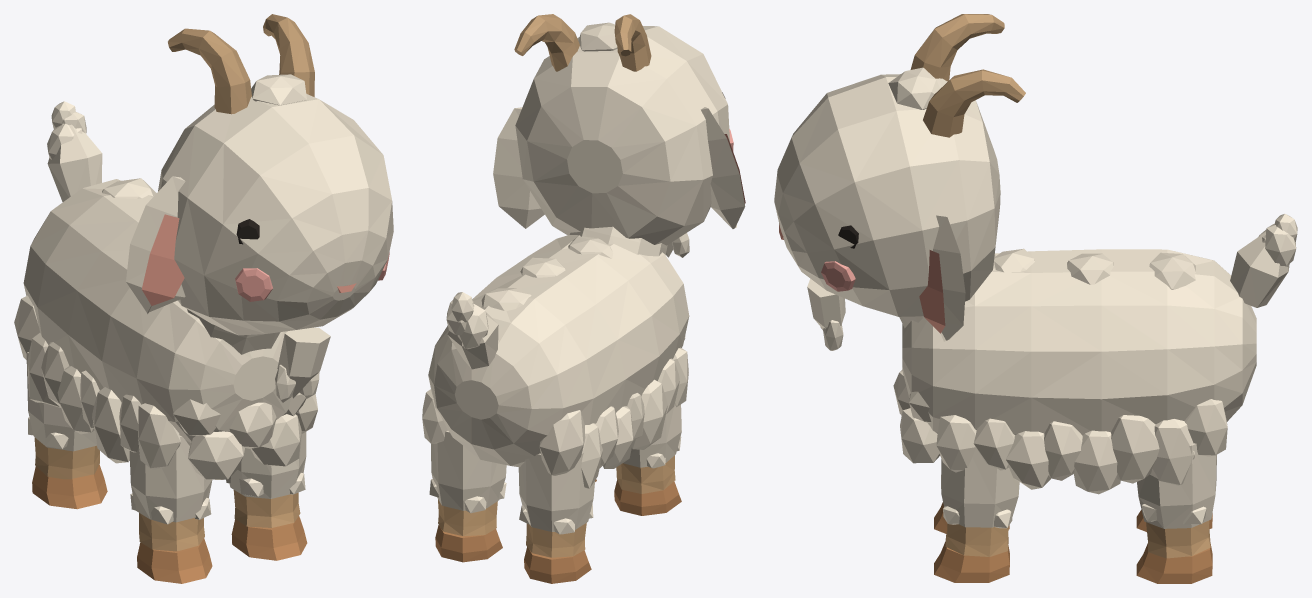
Rendered from goat-idle.glb.
3 views of the same model, side by side, from view 1: azimuth 30°, elevation 25°; view 2: azimuth 150°, elevation 25°; view 3: azimuth 270°, elevation 25° (orthographic). The views are drawn at different scales.
Visible parts, largest first — view 1: body, head, leg_front_R_upper, tail, horn_R, beard, ear_R, leg_front_L_upper, ear_inner_R, leg_front_R_hoof, leg_front_L_hoof, leg_hind_R_hoof (+7 smaller); view 2: body, head, leg_hind_R_upper, leg_hind_L_upper, ear_L, tail, ear_R, horn_L, leg_hind_R_hoof, leg_hind_L_hoof, leg_front_R_upper, horn_R (+5 smaller); view 3: body, head, leg_front_L_upper, leg_hind_L_upper, tail, horn_L, horn_R, ear_L, leg_hind_L_hoof, leg_front_L_hoof, leg_hind_L_lower, leg_front_L_lower (+3 smaller).
Boxes of the visible parts, x1,y1,x2,y2 form: body: [14, 178, 317, 479]; head: [158, 74, 393, 335]; leg_front_R_upper: [129, 435, 212, 524]; tail: [47, 101, 102, 201]; horn_R: [168, 28, 251, 114]; beard: [275, 327, 330, 402]; ear_R: [126, 176, 185, 313]; leg_front_L_upper: [226, 414, 306, 498]; ear_inner_R: [141, 214, 184, 305]; leg_front_R_hoof: [137, 538, 212, 583]; leg_front_L_hoof: [231, 516, 307, 560]; leg_hind_R_hoof: [32, 464, 107, 509]; body: [422, 235, 689, 489]; head: [515, 22, 729, 245]; leg_hind_R_upper: [518, 452, 594, 534]; leg_hind_L_upper: [429, 431, 506, 513]; ear_L: [493, 107, 544, 228]; tail: [446, 292, 498, 369]; ear_R: [701, 107, 745, 228]; horn_L: [514, 14, 579, 71]; leg_hind_R_hoof: [524, 547, 591, 583]; leg_hind_L_hoof: [435, 525, 502, 562]; leg_front_R_upper: [623, 404, 681, 468]; horn_R: [614, 14, 651, 71]; body: [893, 248, 1256, 494]; head: [774, 67, 1000, 316]; leg_front_L_upper: [941, 448, 1019, 528]; leg_hind_L_upper: [1137, 443, 1216, 528]; tail: [1230, 214, 1297, 307]; horn_L: [923, 69, 1025, 137]; horn_R: [910, 14, 1004, 81]; ear_L: [933, 213, 965, 341]; leg_hind_L_hoof: [1136, 542, 1212, 583]; leg_front_L_hoof: [934, 541, 1009, 582]; leg_hind_L_lower: [1146, 520, 1210, 558]; leg_front_L_lower: [945, 523, 1008, 556].
Bounding box in the file's own units: 0.6187 × 1.23 × 1.12.
